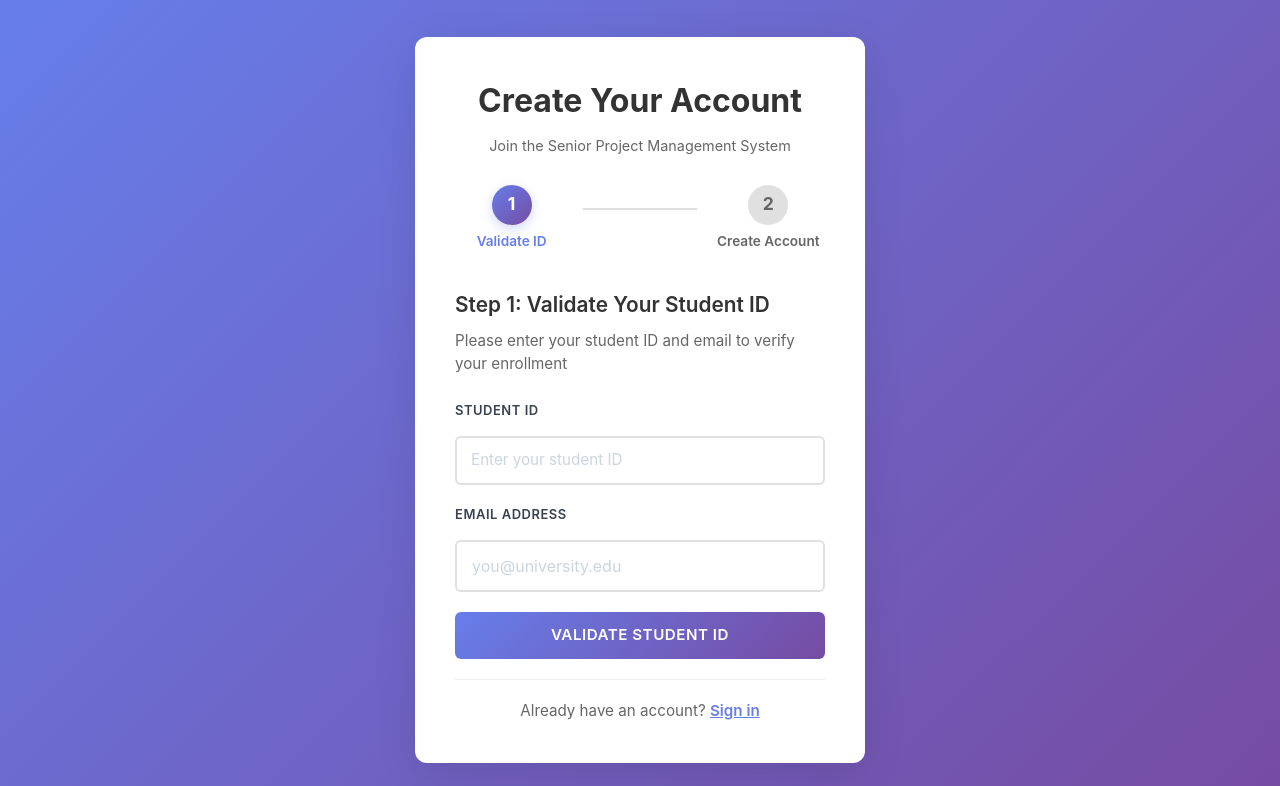
Test: RegisterForm (Two-Step Registration) › Step 2: Account Creation › renders email (read-only), password, and confirm password fields
Type "STU-123" into the field labelled "Student ID" at {"x": 640, "y": 461}, box [455, 436, 825, 485]
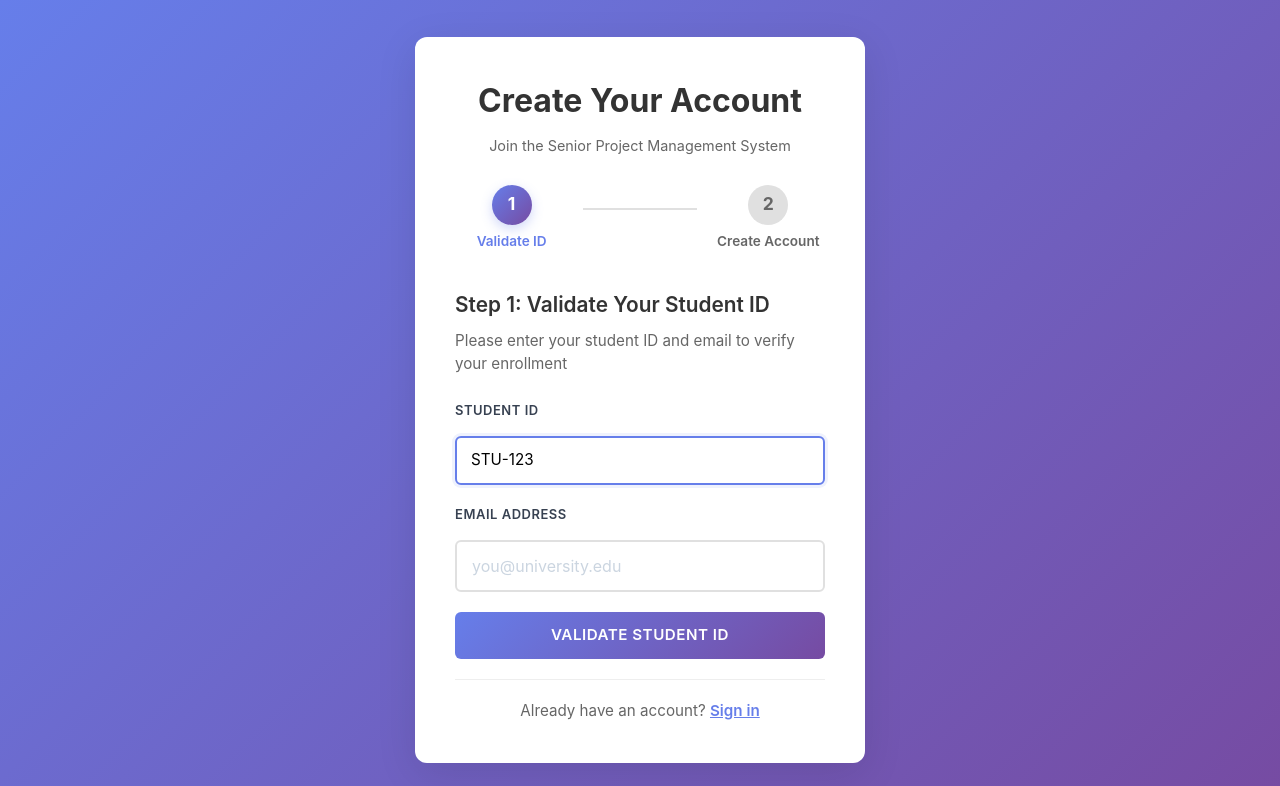
Type "test@university.edu" into the field labelled "Email Address" at {"x": 640, "y": 566}, box [455, 540, 825, 592]
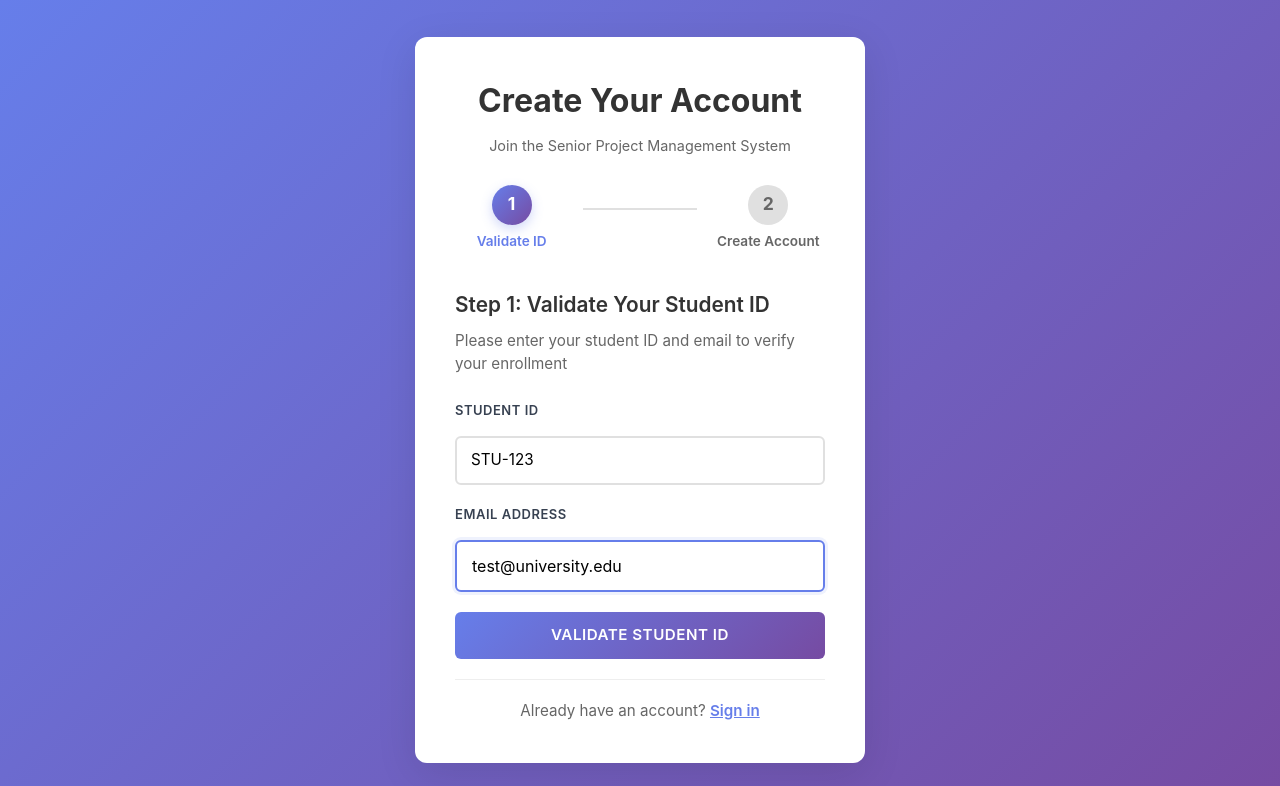
Click the button "Validate Student ID" at {"x": 640, "y": 636}, box [455, 612, 825, 659]
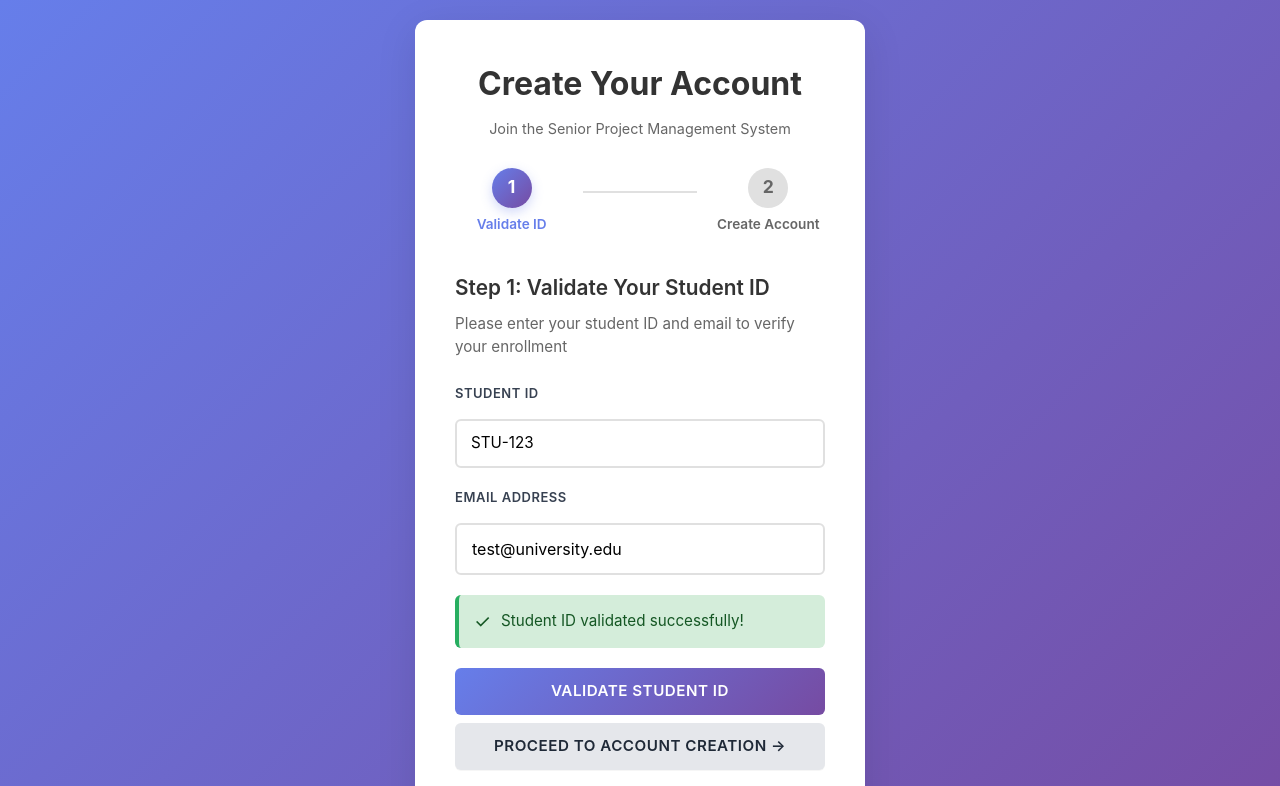
Now the button "Proceed to Account Creation →" is shown
Click the button "Proceed to Account Creation →" at {"x": 640, "y": 746}, box [455, 723, 825, 770]
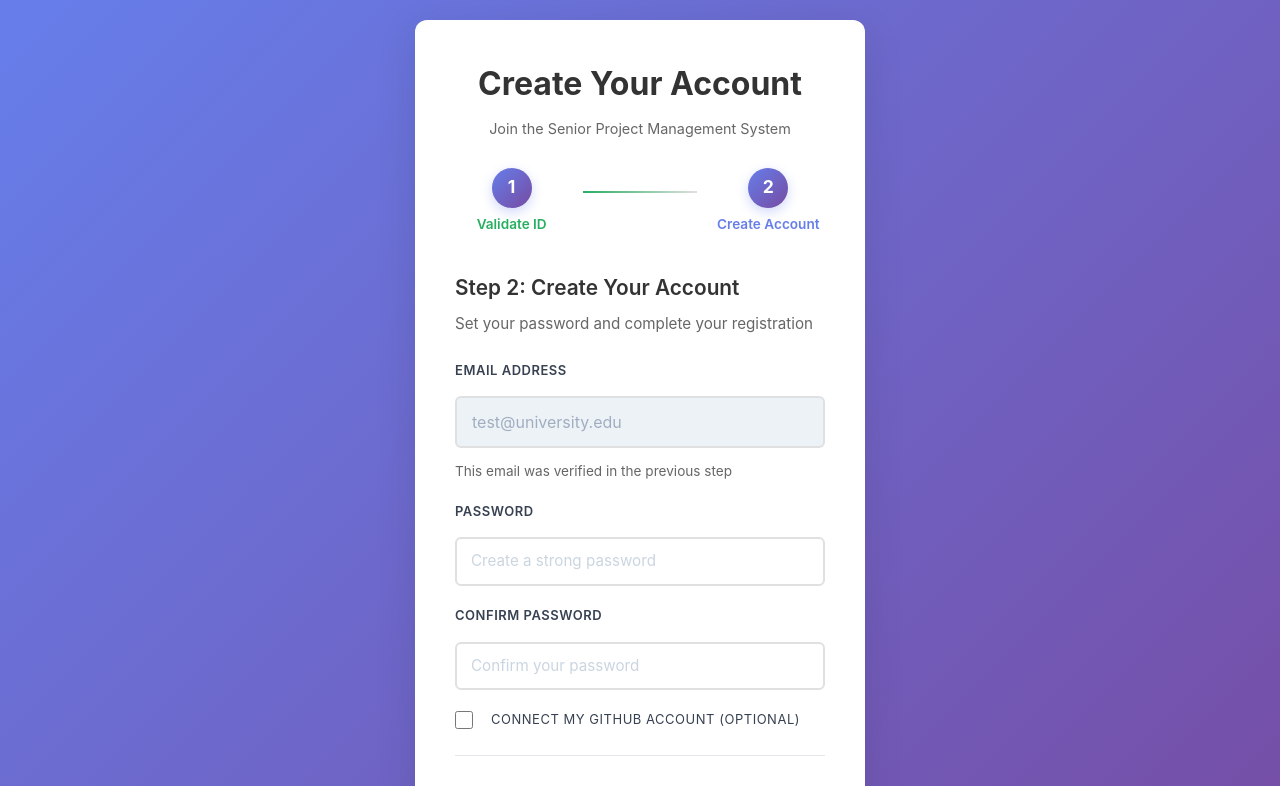
Now the password field labelled "Password" is shown, box [455, 537, 825, 586]
Now the password field labelled "Confirm Password" is shown, box [455, 642, 825, 690]
